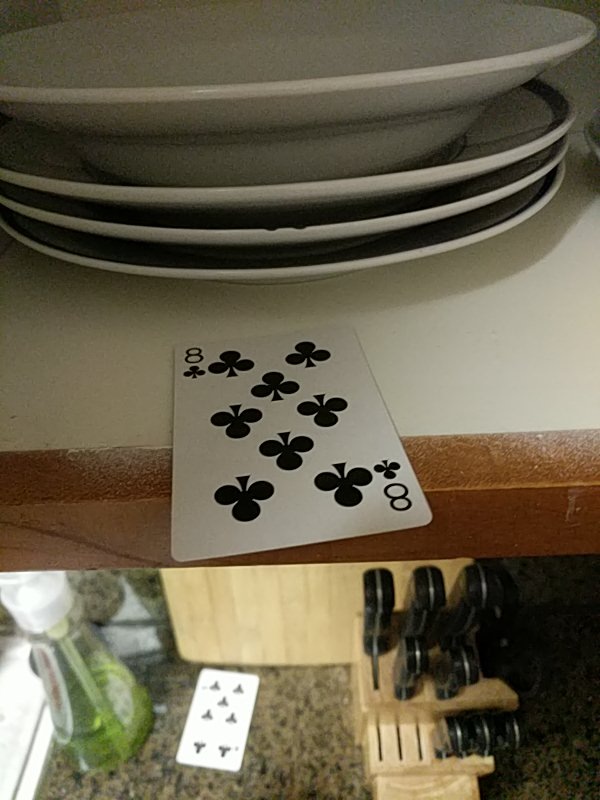Clubs: (167, 332, 437, 560)
